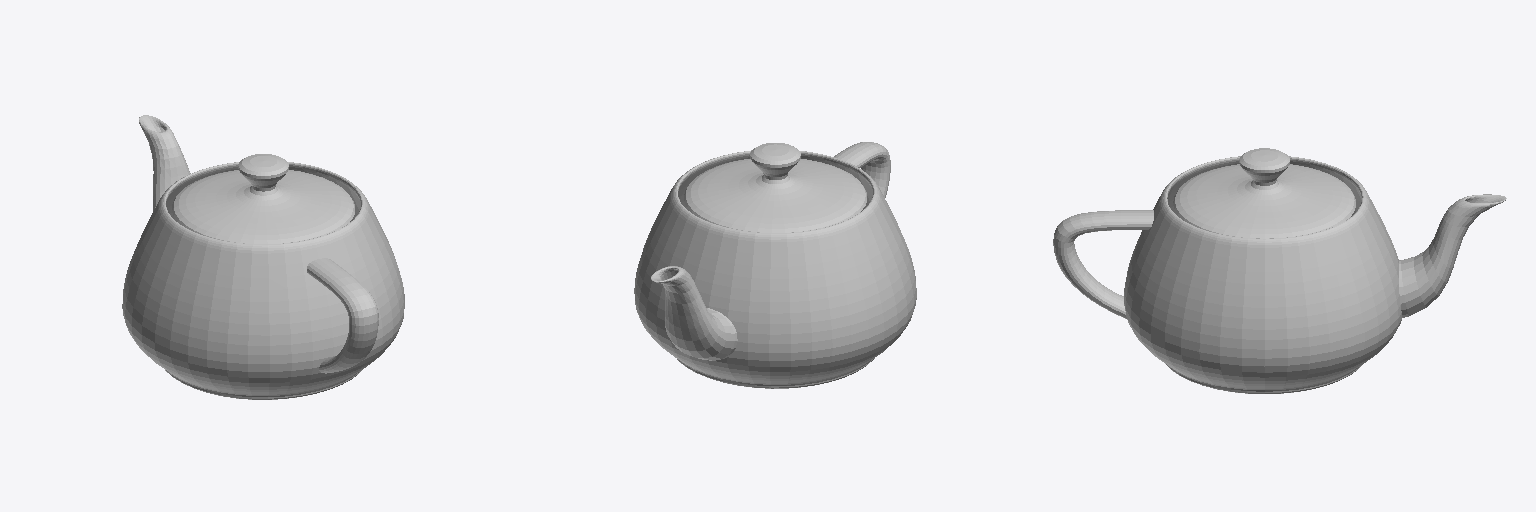
The model's file is TeapotSmall.obj.
The picture shows the model from 3 angles: view 1: azimuth 30°, elevation 25°; view 2: azimuth 150°, elevation 25°; view 3: azimuth 270°, elevation 25°; orthographic projection.
Visible parts, largest first — view 1: TeapotSmall_teapot; view 2: TeapotSmall_teapot; view 3: TeapotSmall_teapot.
Boxes of the visible parts, x1=… form: TeapotSmall_teapot: x1=122, y1=115, x2=404, y2=399; TeapotSmall_teapot: x1=634, y1=142, x2=916, y2=388; TeapotSmall_teapot: x1=1053, y1=148, x2=1506, y2=393.
Bounding box in the file's own units: 0.2419 × 0.1905 × 0.3891.